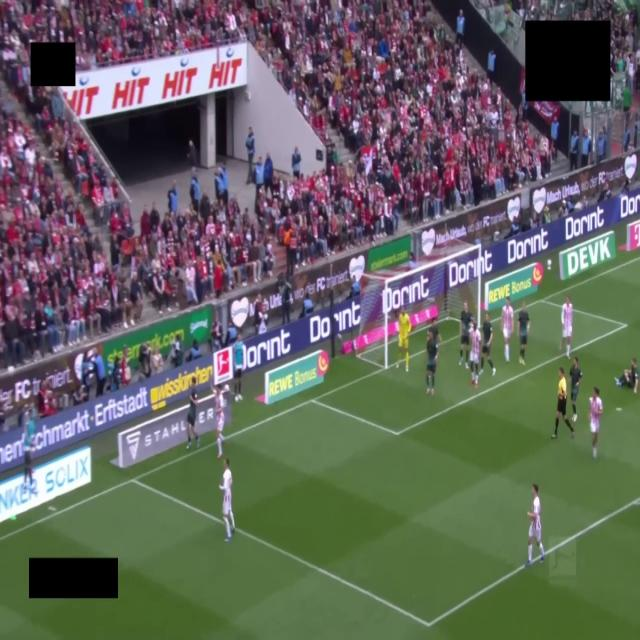player: (525, 484, 544, 567), (220, 459, 235, 541), (214, 385, 228, 458), (480, 313, 495, 375), (397, 306, 411, 371), (559, 296, 573, 358), (187, 376, 199, 448), (590, 387, 602, 459), (426, 329, 439, 395), (459, 302, 472, 368), (615, 358, 638, 393), (470, 323, 482, 388), (570, 357, 582, 422), (501, 297, 513, 361), (518, 302, 530, 365), (428, 318, 442, 348)
referee: (552, 367, 574, 438)
